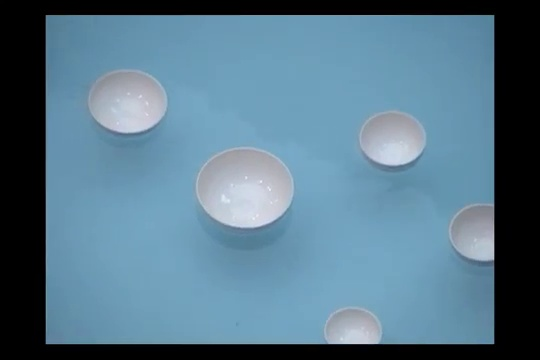bowl: (195, 147, 294, 234), (87, 69, 168, 139), (358, 111, 426, 172), (449, 203, 493, 268), (324, 306, 381, 344)
